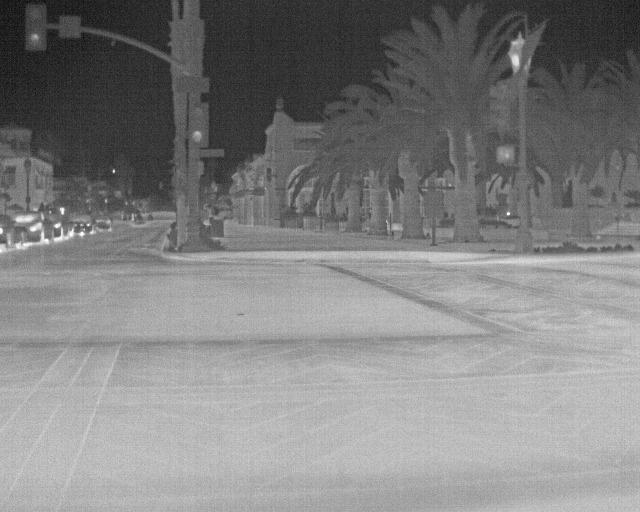car: (12, 210, 56, 243), (1, 213, 29, 247), (46, 212, 64, 240), (93, 214, 113, 233), (74, 219, 93, 236), (61, 212, 73, 238)
